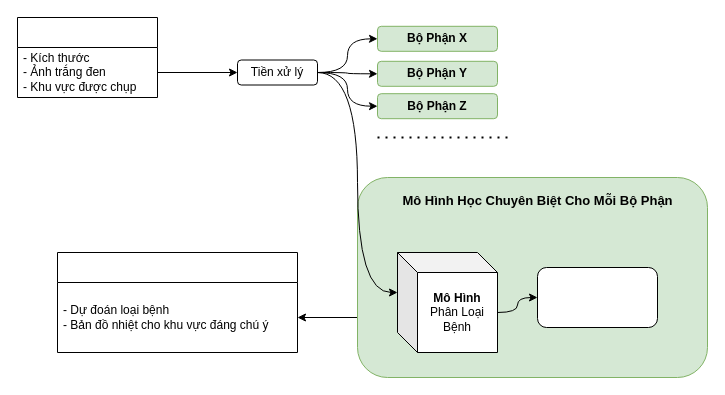
This 725x395 diagram has some shape labels left out. The shapes that lost their labels are listed below. From the top down, each one's box as (x1, y1, x2, y2) in pixels, then its label:
(16, 16, 158, 98): Ảnh chụp X-Quang
(56, 252, 298, 352): Kết Luận Tham Khảo
(536, 266, 658, 328): Phân Tích Bản Đồ Nhiệt
